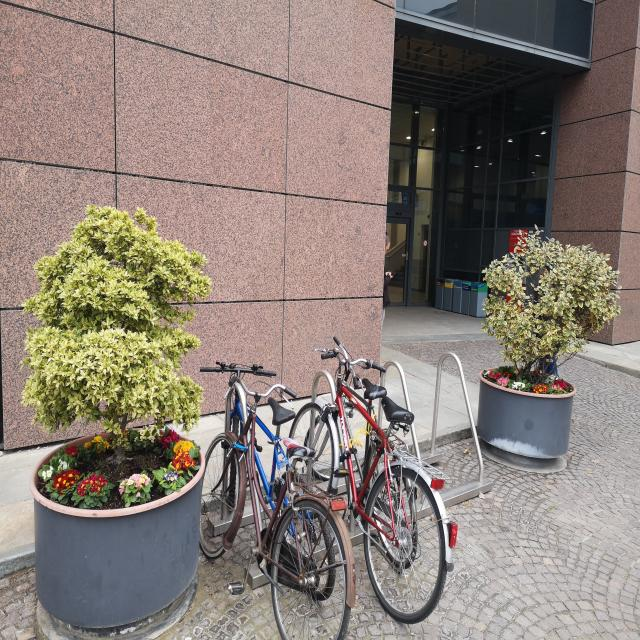Bicycle: (297, 324, 448, 634), (200, 367, 356, 640), (212, 351, 308, 522), (337, 336, 407, 483)
